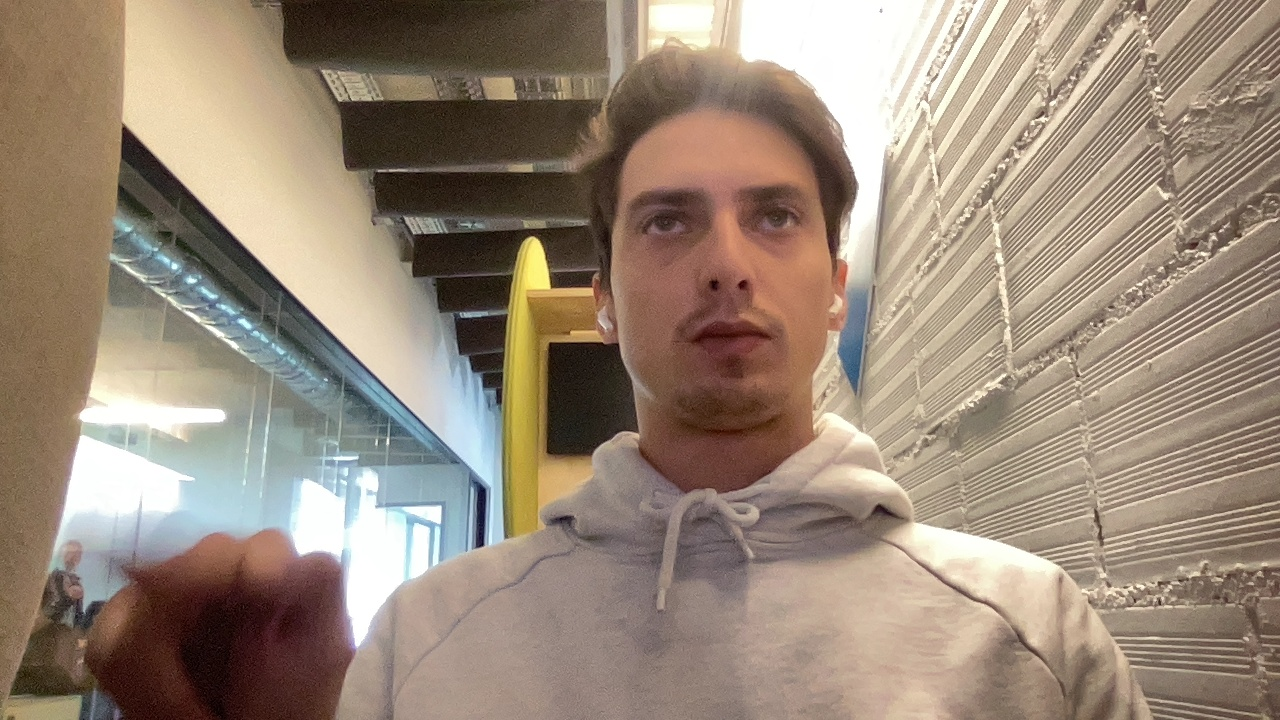no: (56, 491, 372, 718)
